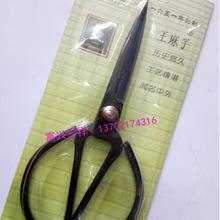scissor: (20, 1, 152, 219)
